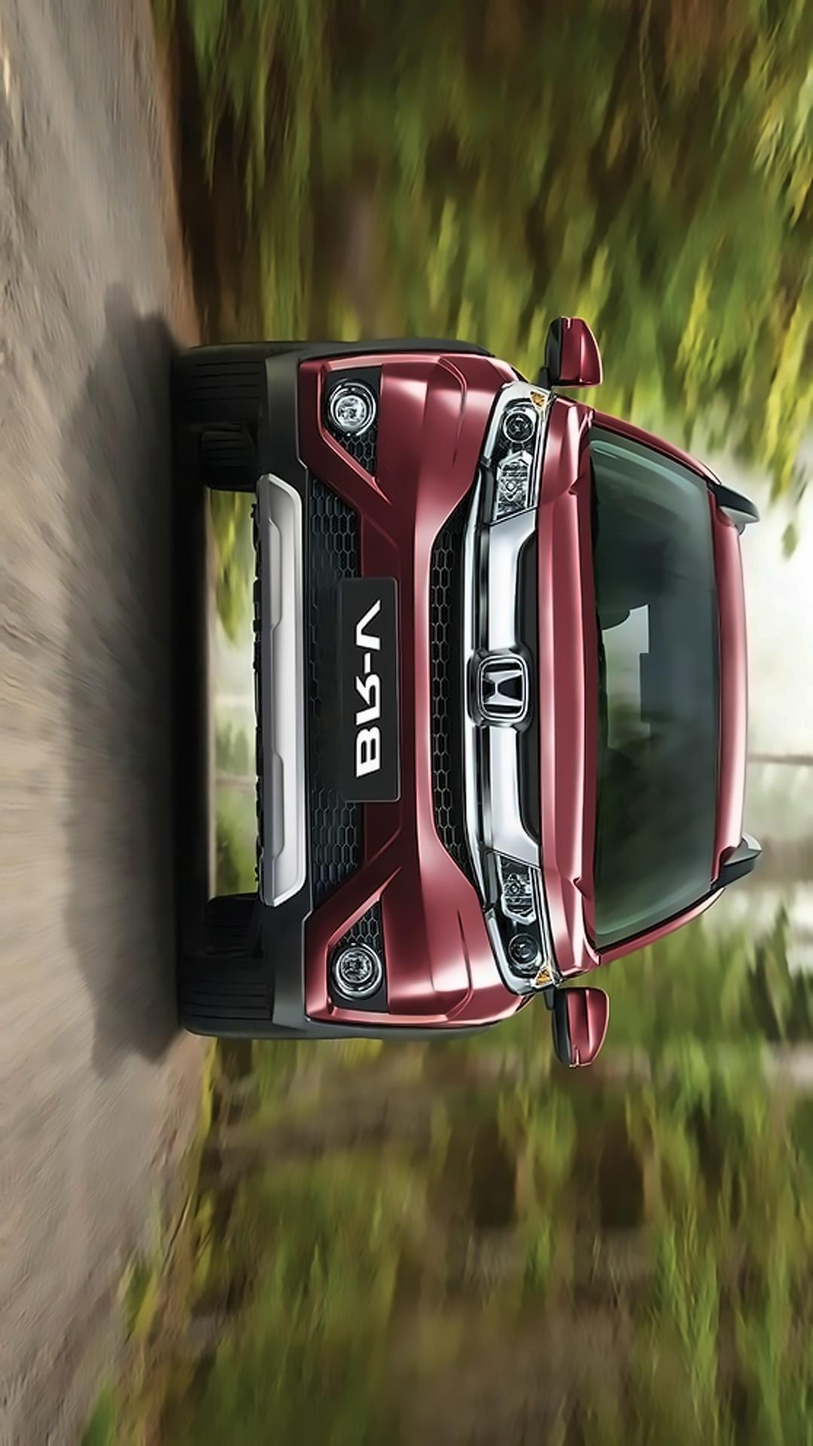Car hood: (525, 396, 606, 980)
Front bumper: (246, 328, 486, 1035)
Headlight - -L-: (471, 834, 572, 995)
Headlight - -R-: (469, 373, 561, 542)
Side mirror - -L-: (540, 970, 618, 1074)
Side mirror - -R-: (529, 304, 614, 397)
